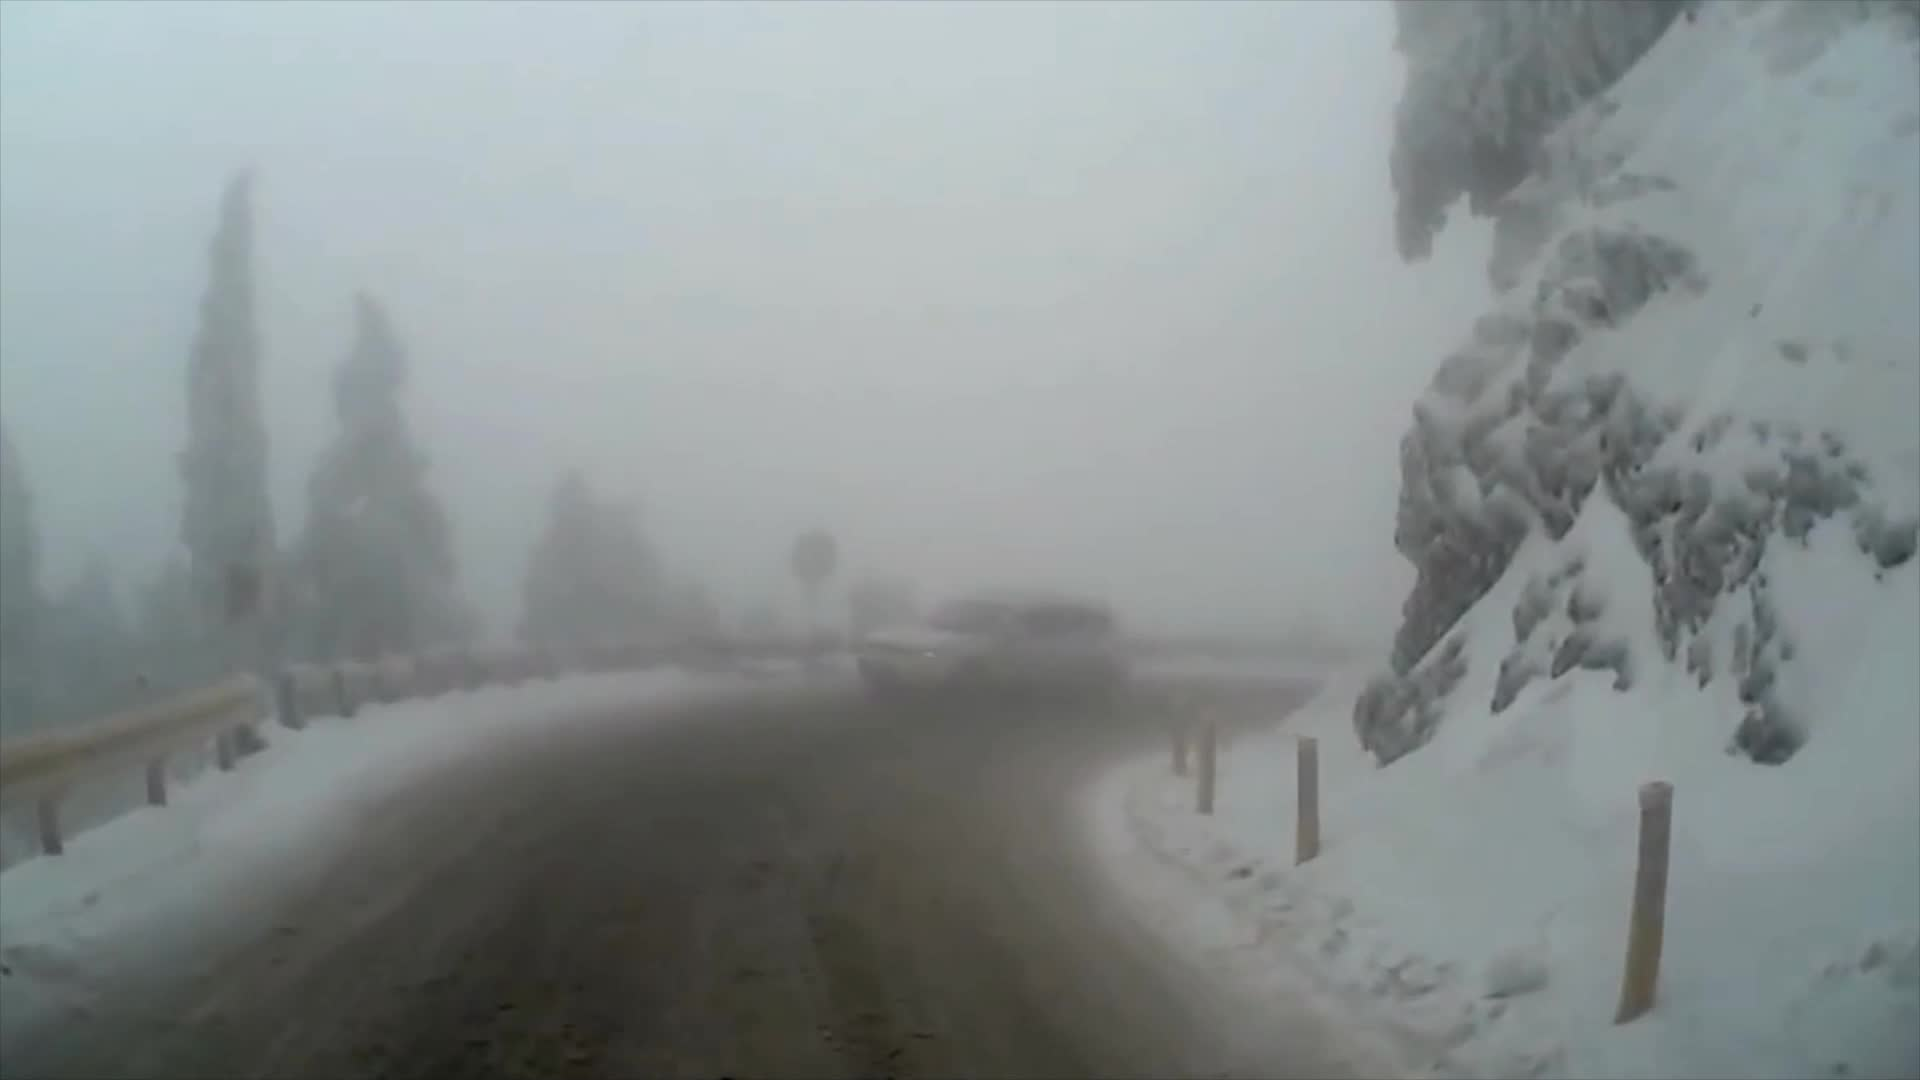vehicle: (851, 588, 1127, 717)
